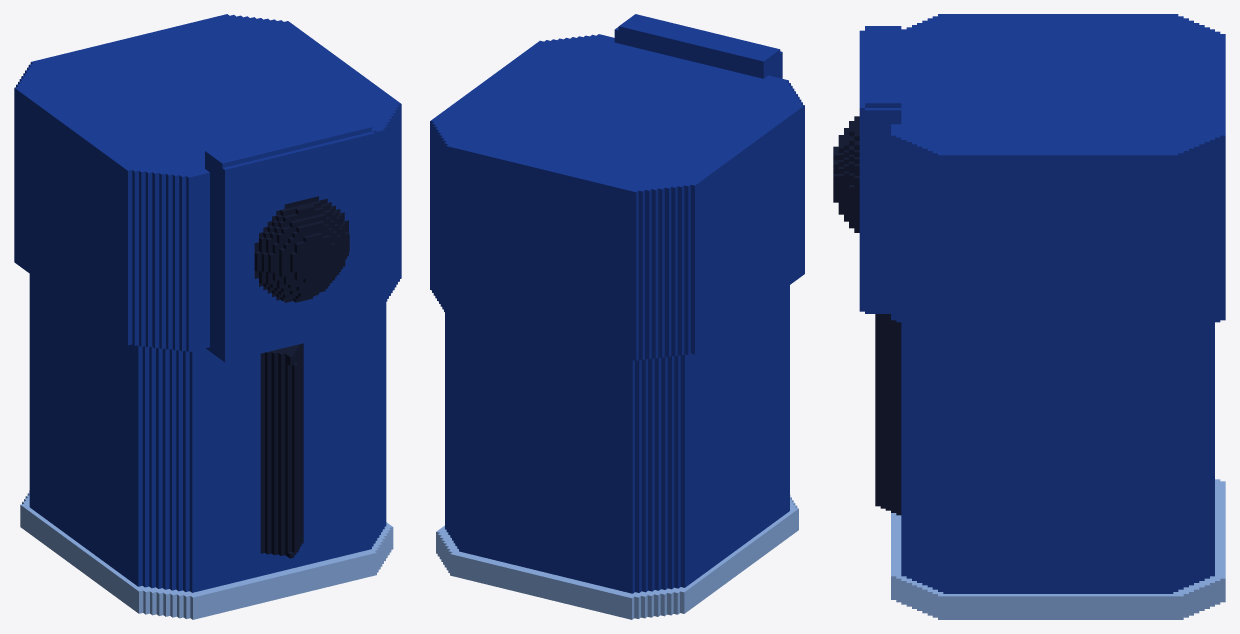
Rendered from legguard_heavy_worn_shin.glb.
3 renders of one model, left to right at view 1: azimuth 30°, elevation 25°; view 2: azimuth 150°, elevation 25°; view 3: azimuth 270°, elevation 25°, orthographic. The views are drawn at different scales.
Visible parts, largest first — view 1: legguard_heavy_worn_shin:compound; view 2: legguard_heavy_worn_shin:compound; view 3: legguard_heavy_worn_shin:compound.
Boxes of the visible parts, <box> form: legguard_heavy_worn_shin:compound: <box>14,14,401,619</box>; legguard_heavy_worn_shin:compound: <box>430,14,804,619</box>; legguard_heavy_worn_shin:compound: <box>833,14,1225,619</box>.
Bounding box in the file's own units: 0.256 × 0.412 × 0.3.
